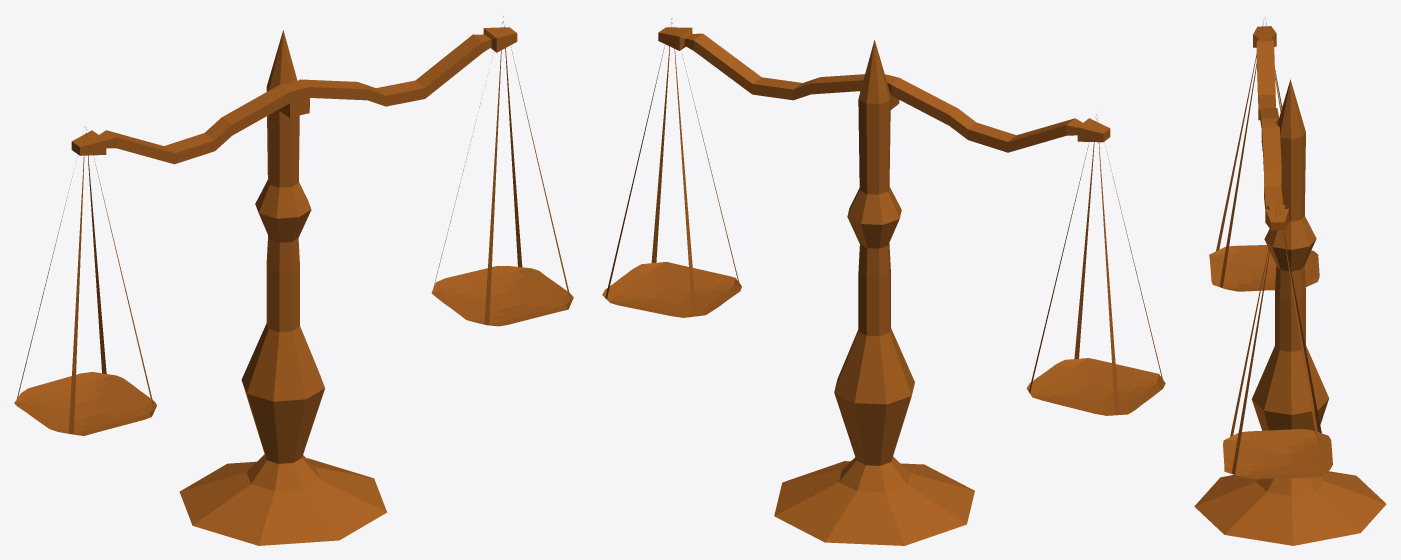
File: pesa_001.fbx
3 renders of one model, left to right at view 1: azimuth 30°, elevation 25°; view 2: azimuth 150°, elevation 25°; view 3: azimuth 270°, elevation 25°, orthographic. The views are drawn at different scales.
Parts seen in each view (by area): view 1: pesa.001; view 2: pesa.001; view 3: pesa.001.
Part boxes in pixels (<box>): pesa.001: <box>14,16,573,545</box>; pesa.001: <box>602,18,1165,545</box>; pesa.001: <box>1194,20,1386,545</box>.
Bounding box in the file's own units: 71.05 × 60.33 × 24.7.
